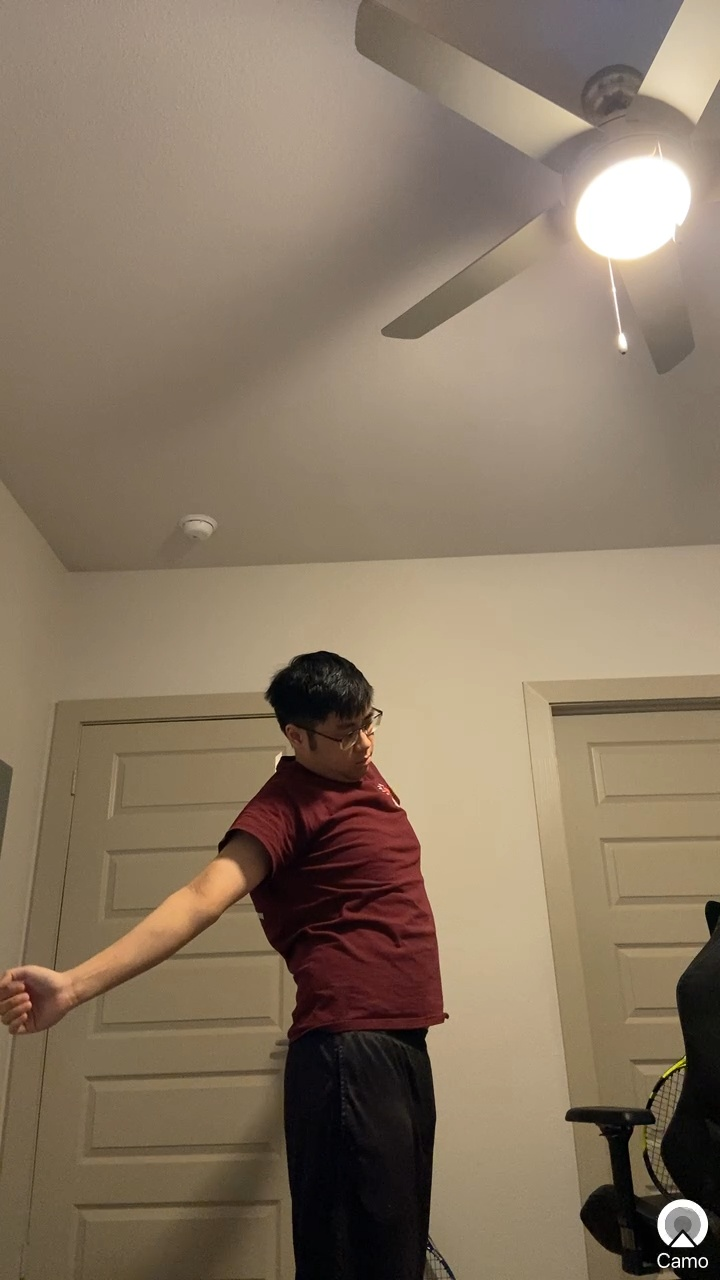Person: (1, 635, 476, 1280)
